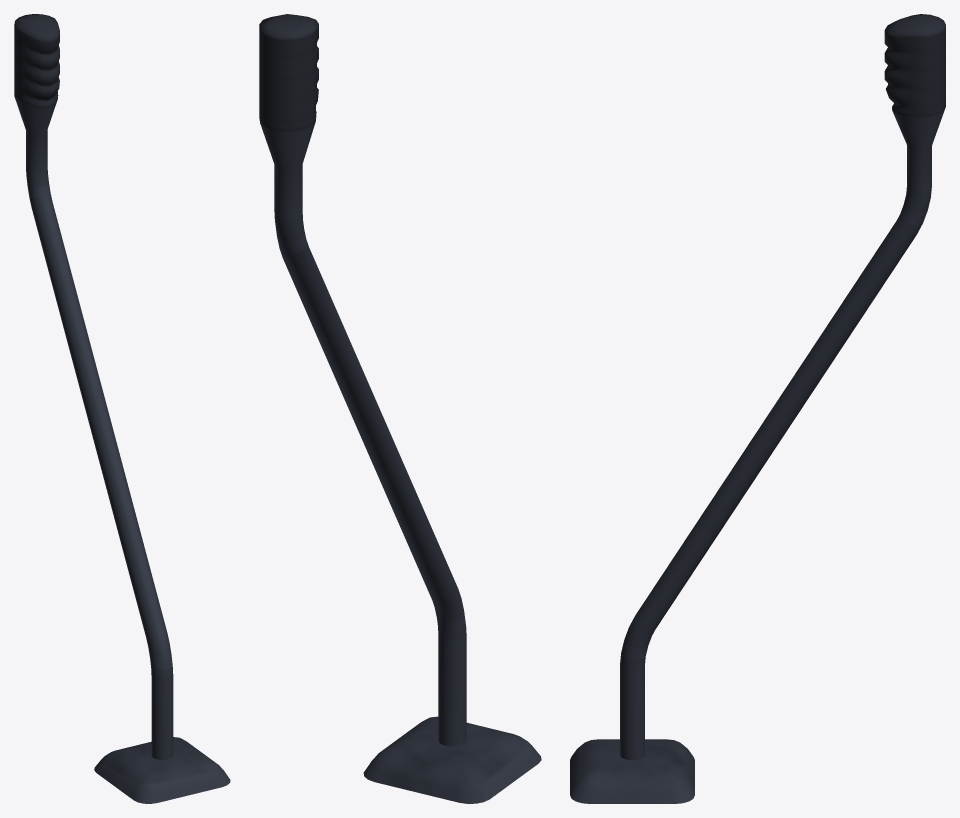
File: s3d_flightstick2.fbx
3 renders of one model, left to right at view 1: azimuth 30°, elevation 25°; view 2: azimuth 150°, elevation 25°; view 3: azimuth 270°, elevation 25°, orthographic. The views are drawn at different scales.
Parts seen in each view (by area): view 1: S3D_FlightStick2, S3D_FlightStick2Base; view 2: S3D_FlightStick2, S3D_FlightStick2Base; view 3: S3D_FlightStick2, S3D_FlightStick2Base.
Part boxes in pixels (x1=…): S3D_FlightStick2: x1=14, y1=14, x2=173, y2=759; S3D_FlightStick2Base: x1=94, y1=737, x2=230, y2=803; S3D_FlightStick2: x1=259, y1=14, x2=466, y2=746; S3D_FlightStick2Base: x1=363, y1=716, x2=541, y2=803; S3D_FlightStick2: x1=620, y1=14, x2=945, y2=760; S3D_FlightStick2Base: x1=570, y1=739, x2=694, y2=803.
Bounding box in the file's own units: 10 × 66.99 × 30.13.
